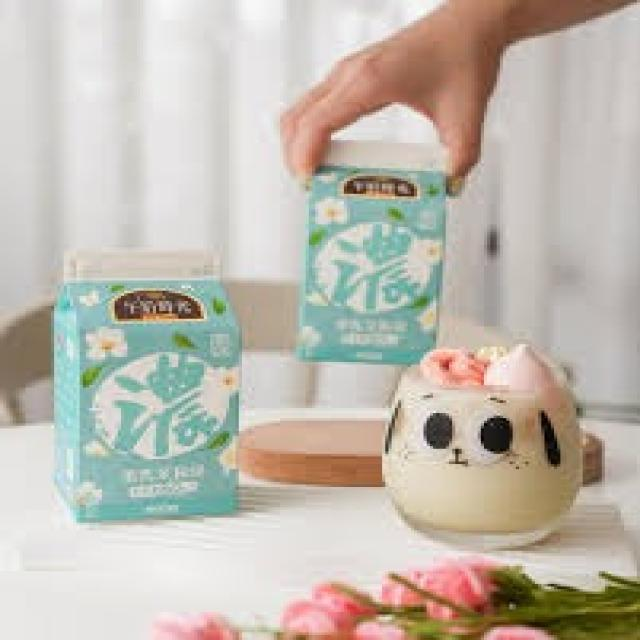Known_MilkGreenTea: (45, 246, 245, 519), (298, 136, 443, 364)
